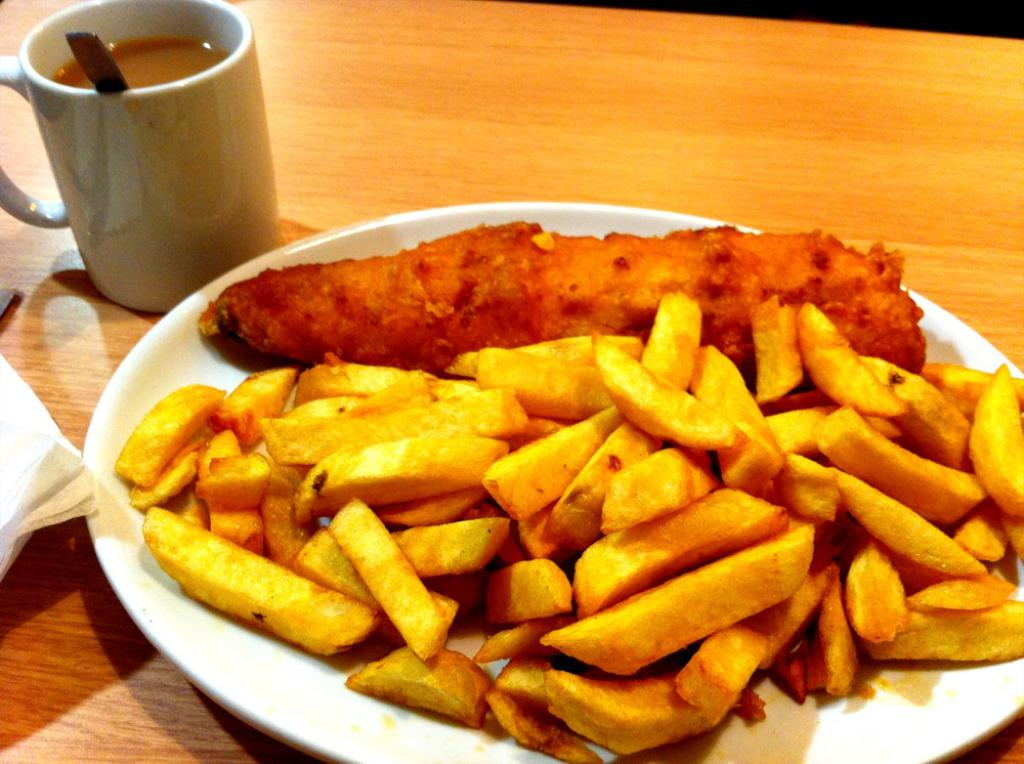French fries: (113, 292, 1024, 763)
